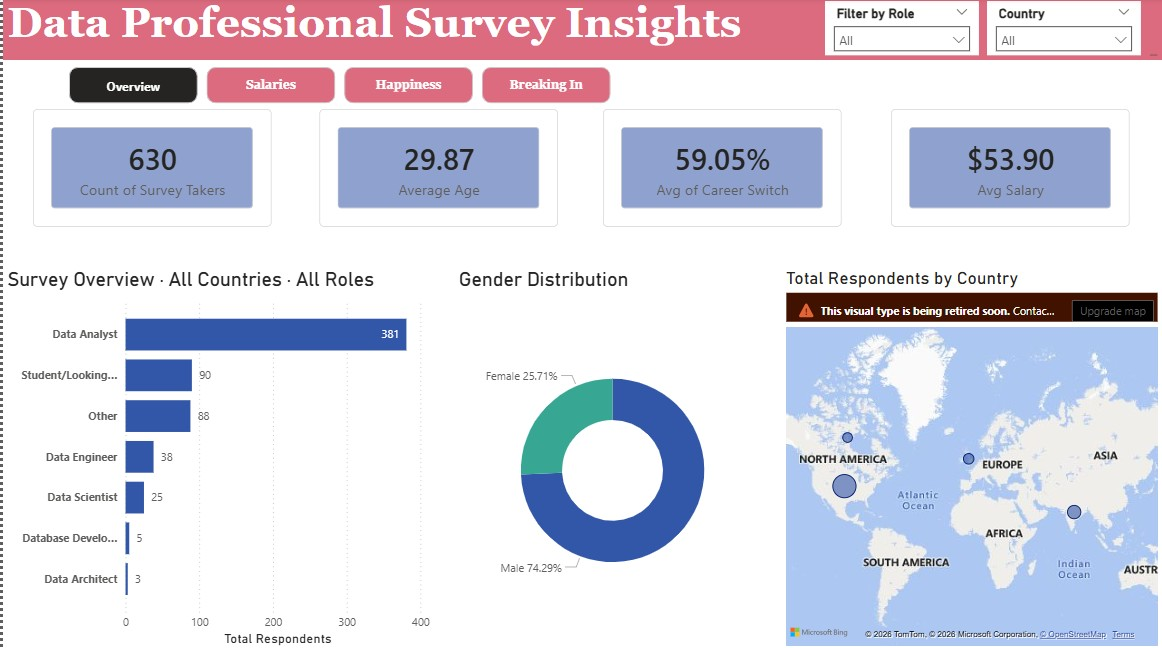

What the dashboard file says about the page in this screenshot:
{"tool":"powerbi","page":{"name":"Overview","canvas":[1280,720],"ordinal":0},"visuals":[{"type":"textbox","title":"Data Professional Survey Insights","box":[0,0,1279.4,68],"z":0},{"type":"cardVisual","fields":{"Data":["CountNonNull(Data Professional Survey.Unique ID)"]},"box":[32.7,123.3,263,130],"z":1000},{"type":"cardVisual","fields":{"Data":["Avg(Data Professional Survey.Age)"]},"box":[350,123.3,263.3,130],"z":2000},{"type":"cardVisual","fields":{"Data":["Data Professional Survey.Avg_Career_Switch%"]},"box":[663.3,123.3,263.3,130],"z":3000},{"type":"cardVisual","fields":{"Data":["_Measures (2).Avg Salary"]},"box":[980,123.3,263.3,130],"z":4000},{"type":"clusteredBarChart","fields":{"Category":["Data Professional Survey.Job Title"],"Y":["_Measures (2).Total Respondents"]},"box":[0,298.3,486.7,421.7],"z":5000},{"type":"donutChart","title":"Gender Distribution","fields":{"Category":["Data Professional Survey.Gender"],"Y":["_Measures (2).Total Respondents"]},"box":[498.3,298.3,348.3,421.7],"z":6000},{"type":"map","fields":{"Category":["Data Professional Survey.Country"],"Size":["_Measures (2).Total Respondents"]},"box":[860,298.3,420,421.7],"z":7000},{"type":"slicer","fields":{"Values":["Data Professional Survey.Job Title"]},"box":[907.7,3.8,170,60],"z":8000},{"type":"slicer","fields":{"Values":["Data Professional Survey.Country"]},"box":[1086.9,3.8,170,60],"z":9000},{"type":"pageNavigator","box":[72.3,75.4,600,40],"z":10000}]}

Visuals, with their boxes in screenshot pixels (x1, y1, x2, y2), scaled from the page's 1280x720 canvas onto the 1162x648 screenshot:
"Data Professional Survey Insights" textbox: BBox(0, 0, 1161, 61)
cardVisual - CountNonNull(Data Professional Survey.Unique ID): BBox(30, 111, 268, 228)
cardVisual - Avg(Data Professional Survey.Age): BBox(318, 111, 557, 228)
cardVisual - Data Professional Survey.Avg_Career_Switch%: BBox(602, 111, 841, 228)
cardVisual - _Measures (2).Avg Salary: BBox(890, 111, 1129, 228)
clusteredBarChart - Data Professional Survey.Job Title x _Measures (2).Total Respondents: BBox(0, 268, 442, 647)
"Gender Distribution" donutChart: BBox(452, 268, 769, 647)
map - Data Professional Survey.Country x _Measures (2).Total Respondents: BBox(781, 268, 1161, 647)
slicer - Data Professional Survey.Job Title: BBox(824, 3, 978, 57)
slicer - Data Professional Survey.Country: BBox(987, 3, 1141, 57)
pageNavigator: BBox(66, 68, 610, 104)
